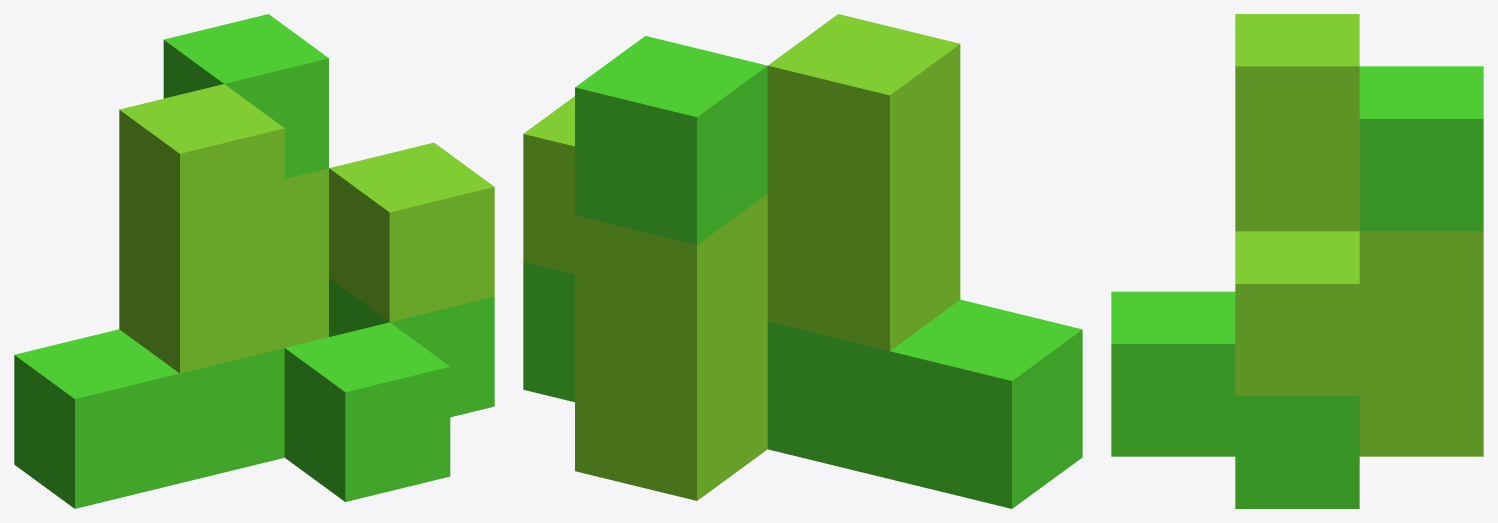
The model's file is tile-29.obj.
3 views of the same model, side by side, from view 1: azimuth 30°, elevation 25°; view 2: azimuth 150°, elevation 25°; view 3: azimuth 270°, elevation 25° (orthographic). The views are drawn at different scales.
Bounding box in the file's own units: 0.4 × 0.3 × 0.3.
